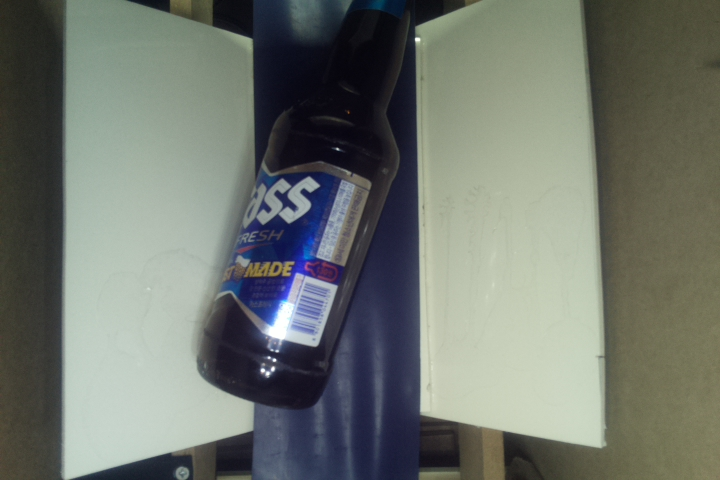makju: (192, 1, 421, 408)
